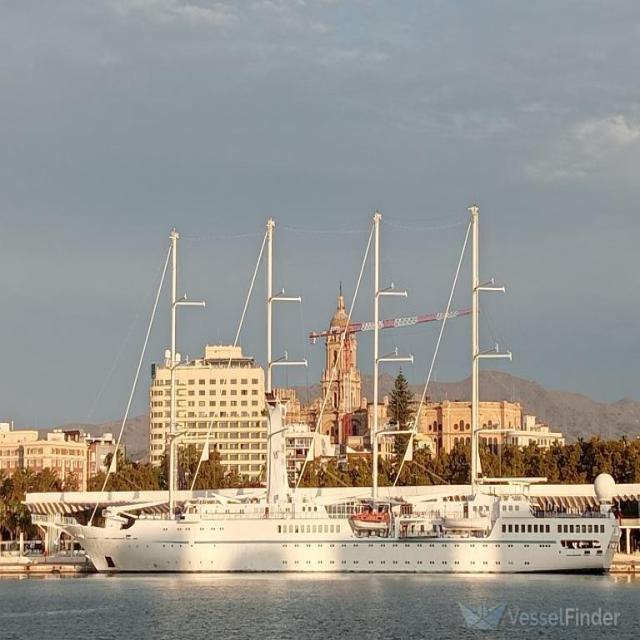PassengerShip: (18, 212, 640, 605)
